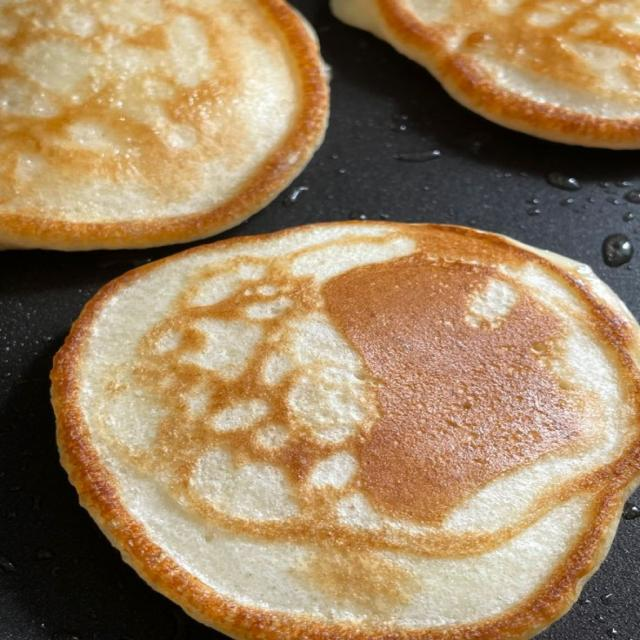pancake: (53, 222, 639, 639), (0, 0, 328, 249), (332, 0, 639, 148)
